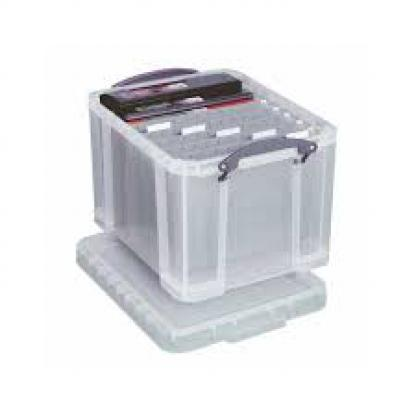plastic_box: (64, 32, 348, 360)
